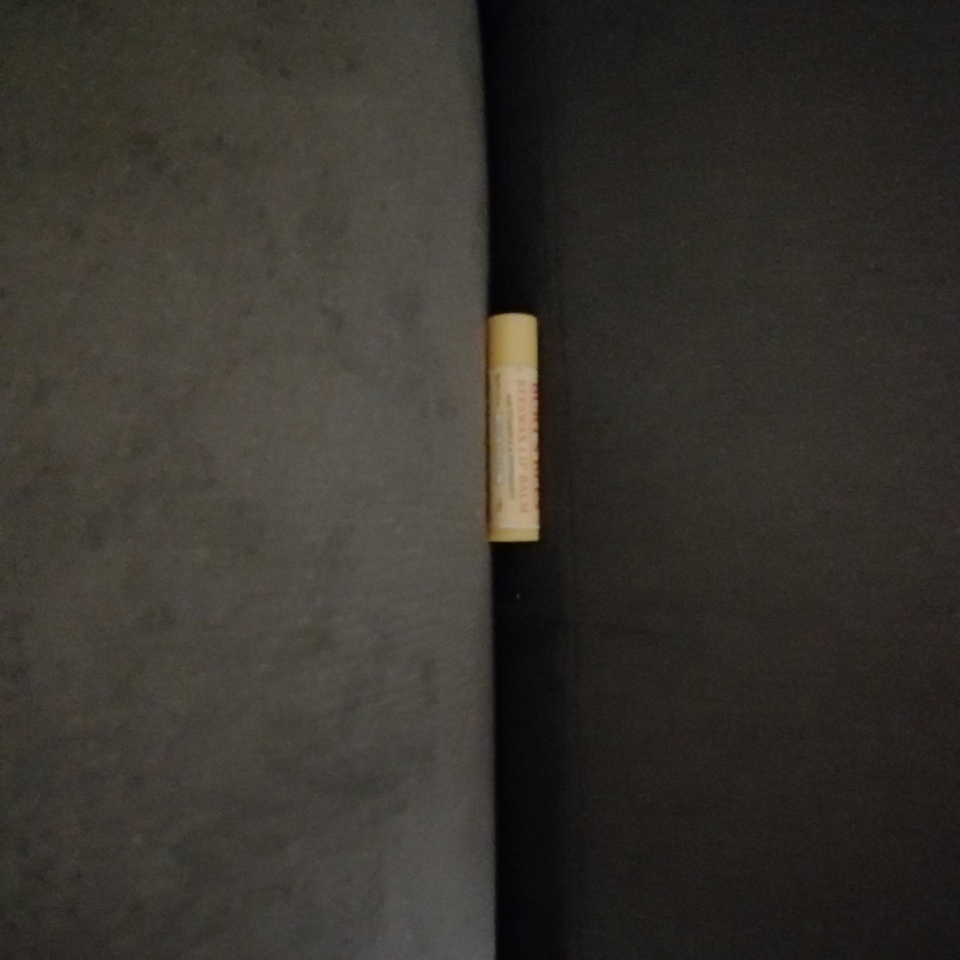chapstick: (484, 311, 545, 543)
